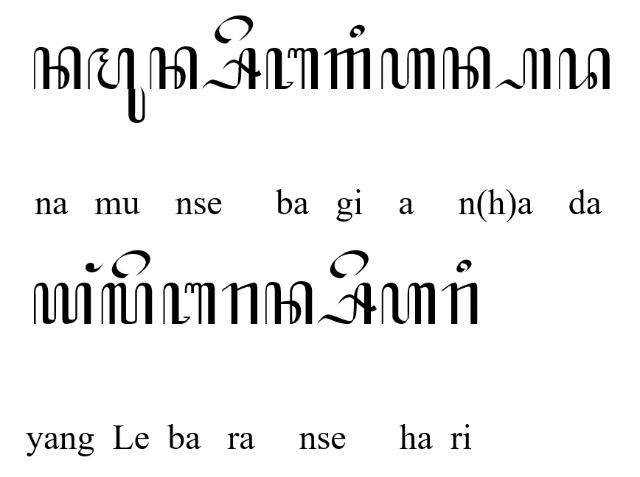_h: (496, 46, 550, 90)
_s: (316, 282, 378, 324), (202, 46, 262, 88)
b: (162, 282, 215, 326), (265, 47, 319, 90)
d: (557, 47, 611, 90)
e: (329, 249, 369, 280), (214, 14, 254, 44), (111, 250, 151, 280)
g: (323, 47, 372, 90)
h: (380, 46, 436, 92), (379, 282, 436, 326)
i: (349, 24, 365, 38), (456, 258, 472, 272)
l: (101, 282, 153, 326)
mu: (88, 46, 146, 124)
n: (264, 280, 312, 326), (149, 45, 197, 90), (442, 46, 491, 90), (34, 46, 82, 90)
ng: (86, 262, 104, 274)
r: (220, 282, 258, 326), (442, 282, 478, 326)
y: (32, 283, 92, 325)
